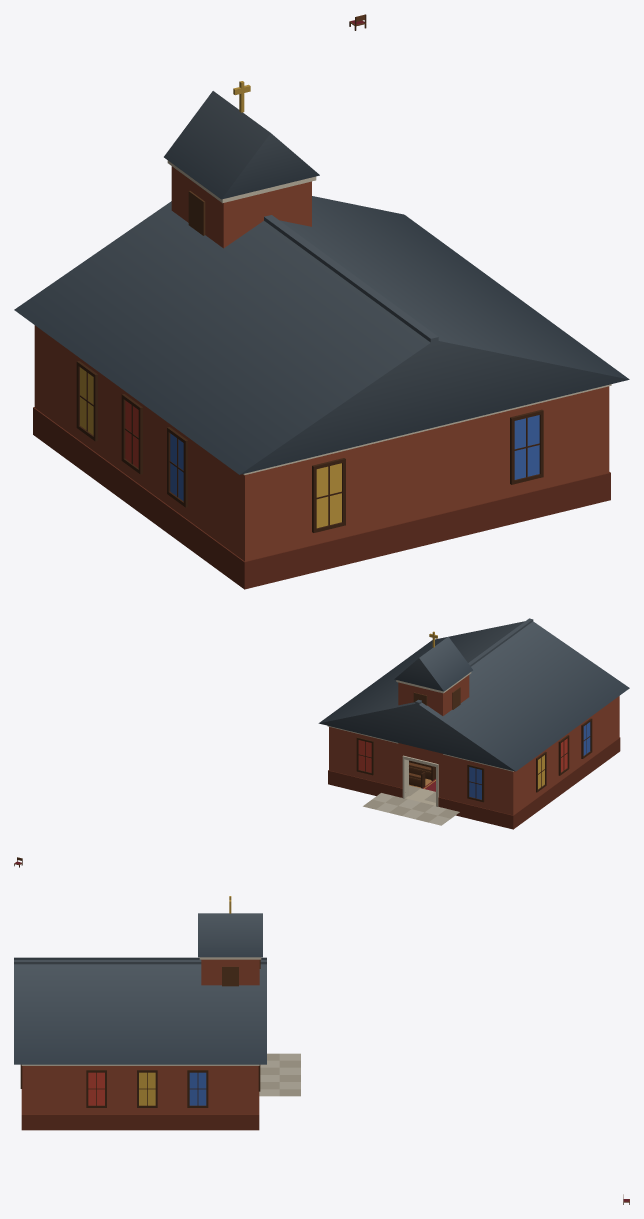
The model's file is church.glb.
3 views of the same model, one above another, from view 1: azimuth 30°, elevation 25°; view 2: azimuth 150°, elevation 25°; view 3: azimuth 270°, elevation 25° (orthographic). The views are drawn at different scales.
Parts seen in each view (by area): view 1: roof, shell, glow; view 2: roof, shell, floor, glow; view 3: roof, shell, glow, floor.
Boxes of the visible parts, x1,y1,x2,y2 form: roof: (14,81,629,474); shell: (33,325,611,589); glow: (80,367,539,528); roof: (318,618,629,771); shell: (327,696,620,829); floor: (363,778,459,825); glow: (358,722,590,799); roof: (14,896,266,1064); shell: (20,1064,260,1130); glow: (88,1072,206,1105); floor: (259,1053,300,1096).
Bounding box in the file's own units: 25.71 × 12 × 36.5.
